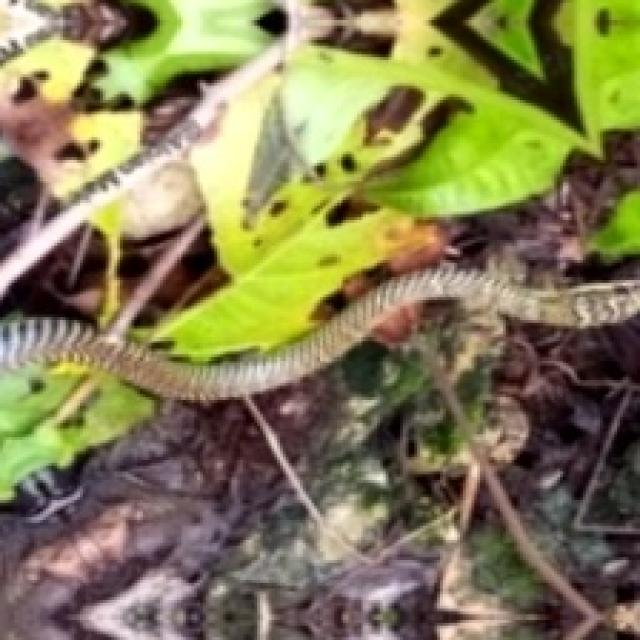paradise tree snake: (0, 263, 637, 400)
